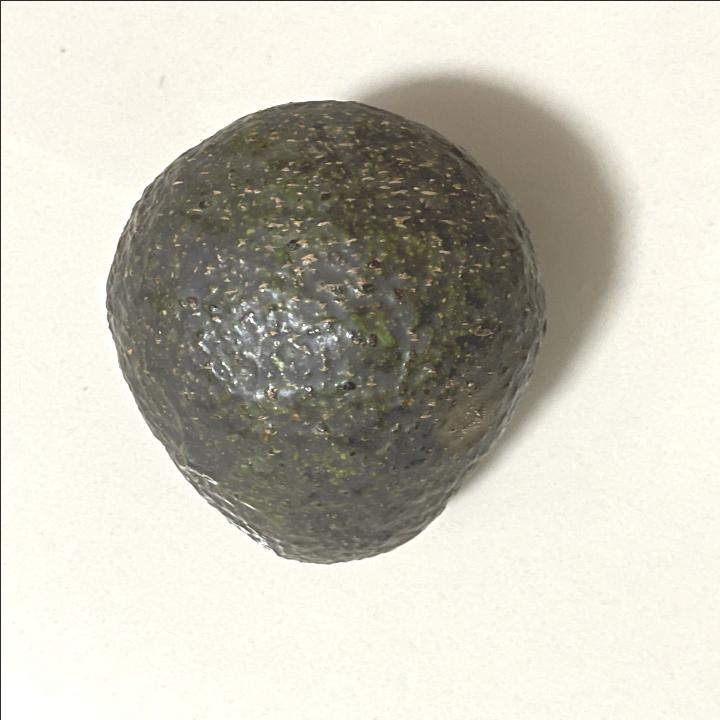Level1: (94, 89, 560, 574)
